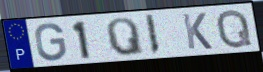1: (71, 19, 92, 61)
G: (34, 22, 68, 63)
I: (144, 13, 162, 57)
K: (180, 12, 214, 51)
Q: (105, 16, 147, 58), (215, 8, 255, 51)
